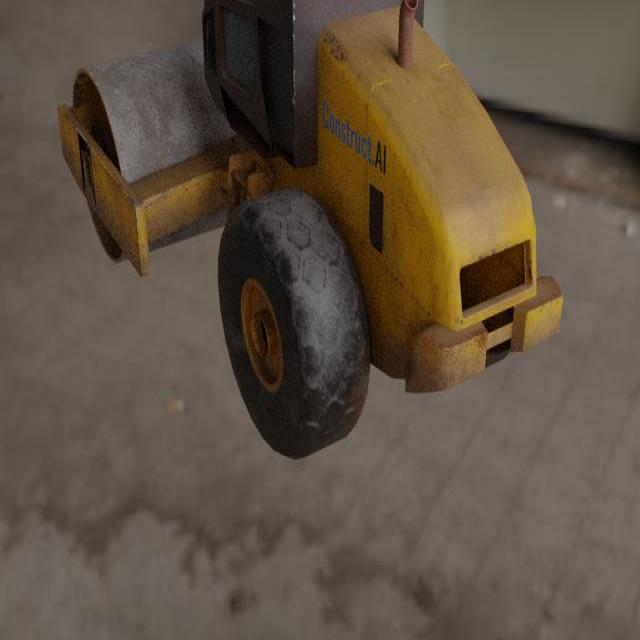Roller: (57, 0, 563, 461)
